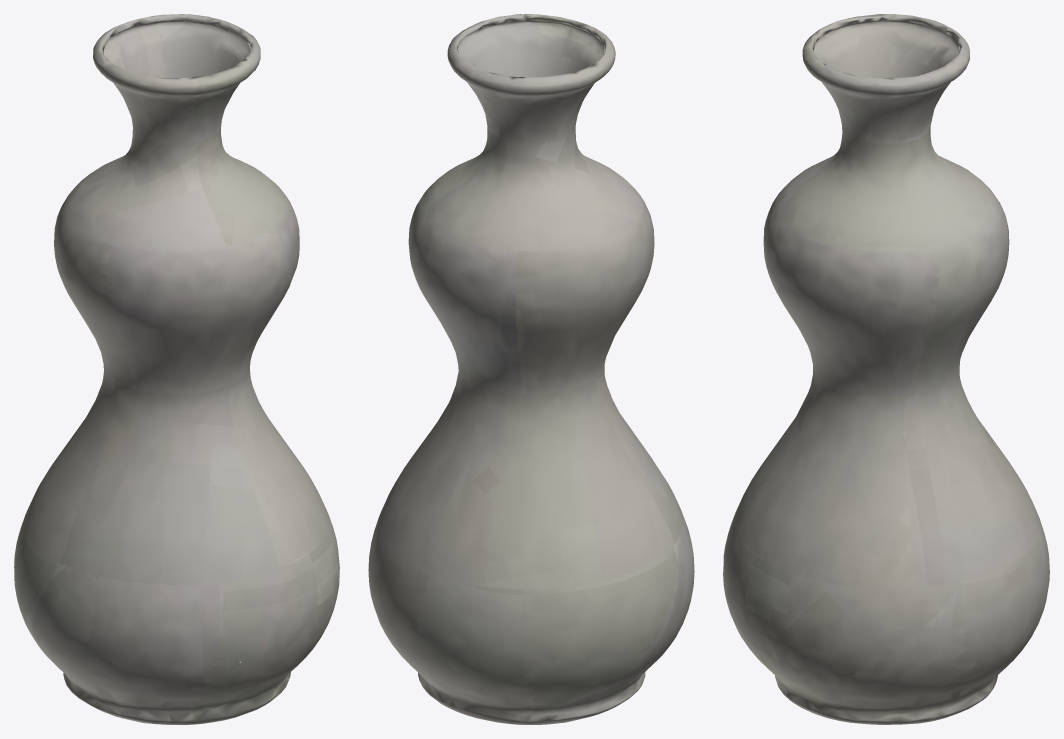
The model's file is bot-curva.glb.
3 views of the same model, side by side, from view 1: azimuth 30°, elevation 25°; view 2: azimuth 150°, elevation 25°; view 3: azimuth 270°, elevation 25° (orthographic).
Visible parts, largest first — view 1: tripo_node_4f611a59-0786-4169-b7be-bafd77c3eda4; view 2: tripo_node_4f611a59-0786-4169-b7be-bafd77c3eda4; view 3: tripo_node_4f611a59-0786-4169-b7be-bafd77c3eda4.
Part boxes in pixels (left/top/right/bottom): tripo_node_4f611a59-0786-4169-b7be-bafd77c3eda4: left=14, top=14, right=339, bottom=724; tripo_node_4f611a59-0786-4169-b7be-bafd77c3eda4: left=368, top=14, right=694, bottom=724; tripo_node_4f611a59-0786-4169-b7be-bafd77c3eda4: left=723, top=14, right=1049, bottom=724.
Size of the model in its own units: 0.4646 by 1 by 0.4653.
1 material, 1 textured.
